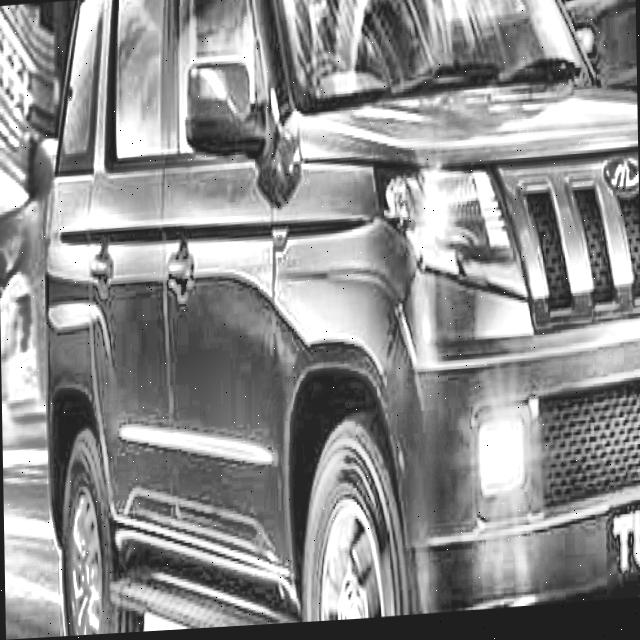light_vehicle: (27, 0, 640, 639)
